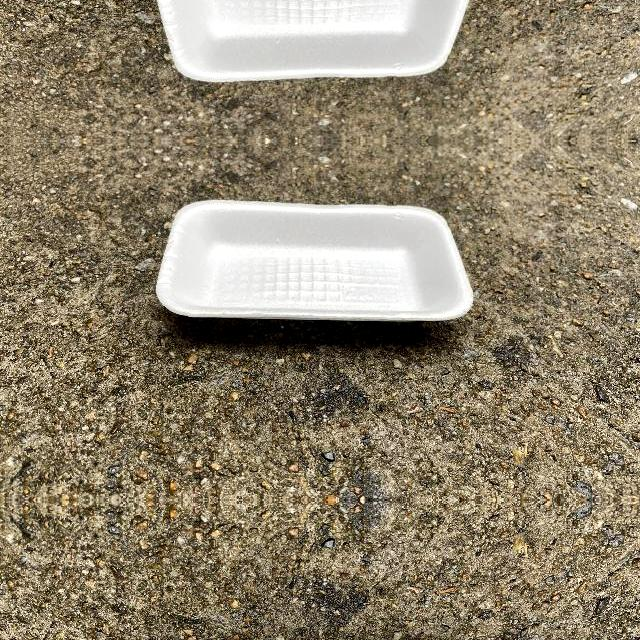Styrofoam: (156, 200, 474, 322), (156, 199, 473, 320), (156, 0, 473, 80), (157, 0, 470, 81)
